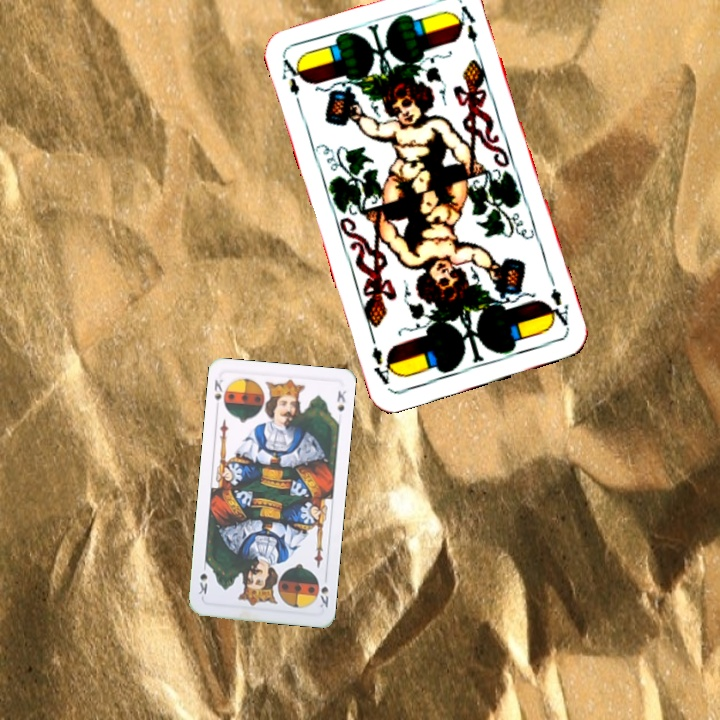EA: (278, 54, 307, 112), (542, 284, 572, 332)
SK: (210, 375, 230, 413), (316, 571, 331, 610)
